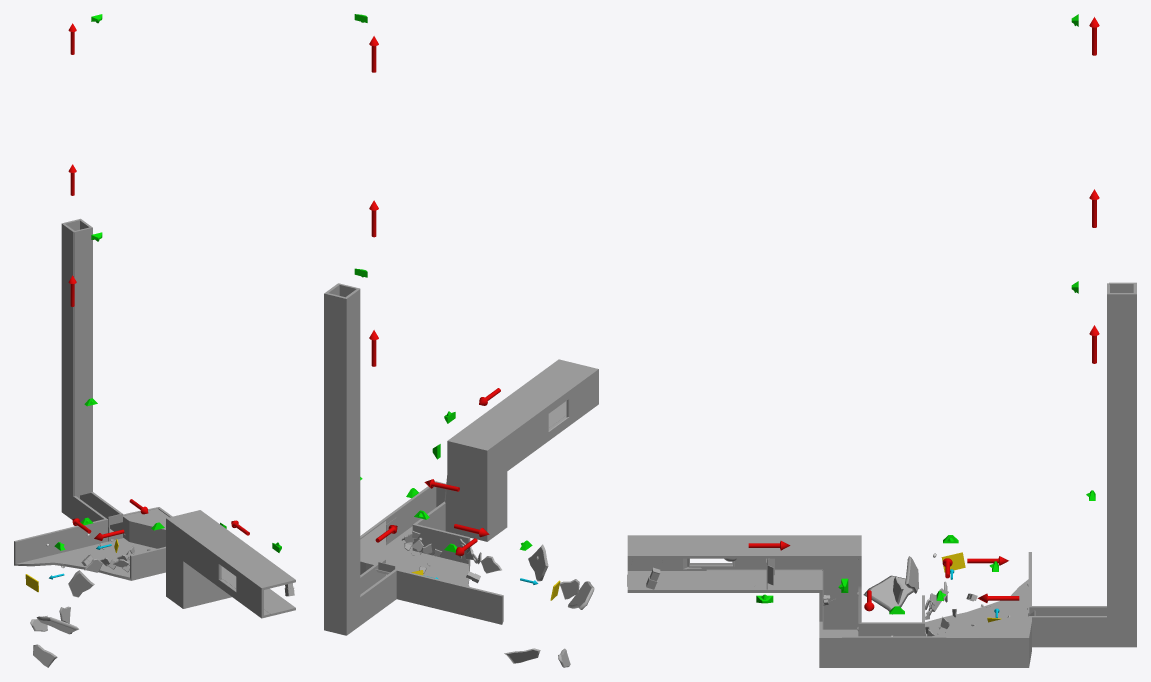
File: BossChase_greybox.fbx
The picture shows the model from 3 angles, left to right: view 1: azimuth 30°, elevation 25°; view 2: azimuth 150°, elevation 25°; view 3: azimuth 270°, elevation 25°; orthographic projection. The views are drawn at different scales.
Visible parts, largest first — view 1: polySurface3, pCube57, pCube3, pCube17; view 2: polySurface3, polySurface4, pCube3, pCube57, pCube35, pCube36; view 3: polySurface3, polySurface4, pCube17, pCube3, pCube36.
Boxes of the visible parts, left/top/right/bottom form: polySurface3: left=14, top=218, right=295, bottom=618; pCube57: left=73, top=227, right=92, bottom=496; pCube3: left=123, top=508, right=169, bottom=548; pCube17: left=221, top=572, right=289, bottom=614; polySurface3: left=324, top=283, right=598, bottom=635; polySurface4: left=360, top=481, right=436, bottom=545; pCube3: left=360, top=521, right=385, bottom=580; pCube57: left=338, top=283, right=360, bottom=596; pCube35: left=528, top=544, right=548, bottom=581; pCube36: left=568, top=581, right=594, bottom=609; polySurface3: left=627, top=282, right=1136, bottom=667; polySurface4: left=819, top=636, right=1028, bottom=667; pCube17: left=627, top=574, right=755, bottom=586; pCube3: left=932, top=616, right=1028, bottom=636; pCube36: left=863, top=575, right=918, bottom=614.
Size of the model in its own units: 16.1 by 48.56 by 31.8.
